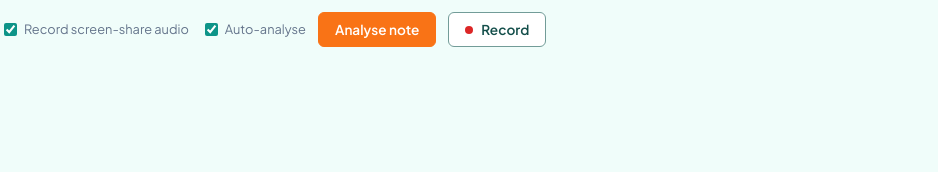
Test case: what the user is told when an analysis fails › tells the user to sign in again when the sign-in has expired
This screenshot has width=938, height=172.
What coordinates should you click on to do the following:
click the button "Analyse note"
I would click on:
 (377, 30)
Its box is top-left (318, 12), bottom-right (436, 47).
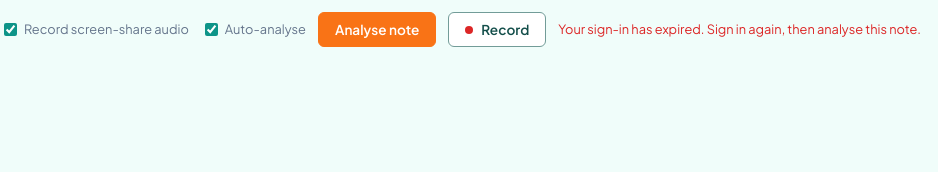
Check: the message "Your sign-in has expired. Sign in again, then analyse this note." is shown, box top-left (558, 19), bottom-right (921, 40)
Check: the message with test id "transcription-analyse-error" shows "Sign in again", box top-left (558, 21), bottom-right (921, 37)
